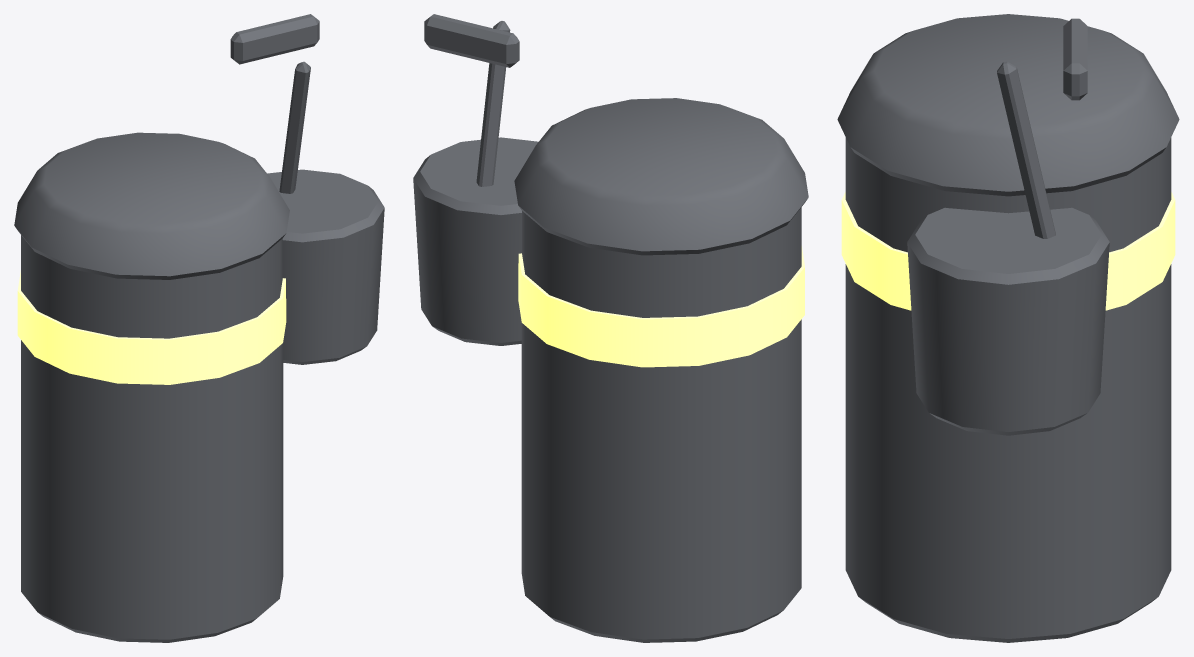
File: fuel-bin.glb
3 views of the same model, side by side, from view 1: azimuth 30°, elevation 25°; view 2: azimuth 150°, elevation 25°; view 3: azimuth 270°, elevation 25° (orthographic). The views are drawn at different scales.
Parts seen in each view (by area): view 1: Bin_Body, Bin_Orange; view 2: Bin_Body, Bin_Orange; view 3: Bin_Body, Bin_Orange.
Part boxes in pixels (x1,y1,x2,y2): Bin_Body: [14, 14, 384, 642]; Bin_Orange: [17, 270, 286, 384]; Bin_Body: [413, 14, 808, 642]; Bin_Orange: [518, 246, 804, 367]; Bin_Body: [837, 14, 1179, 642]; Bin_Orange: [841, 192, 1175, 310].
Bounding box in the file's own units: 2.39 × 3.4 × 1.68.
